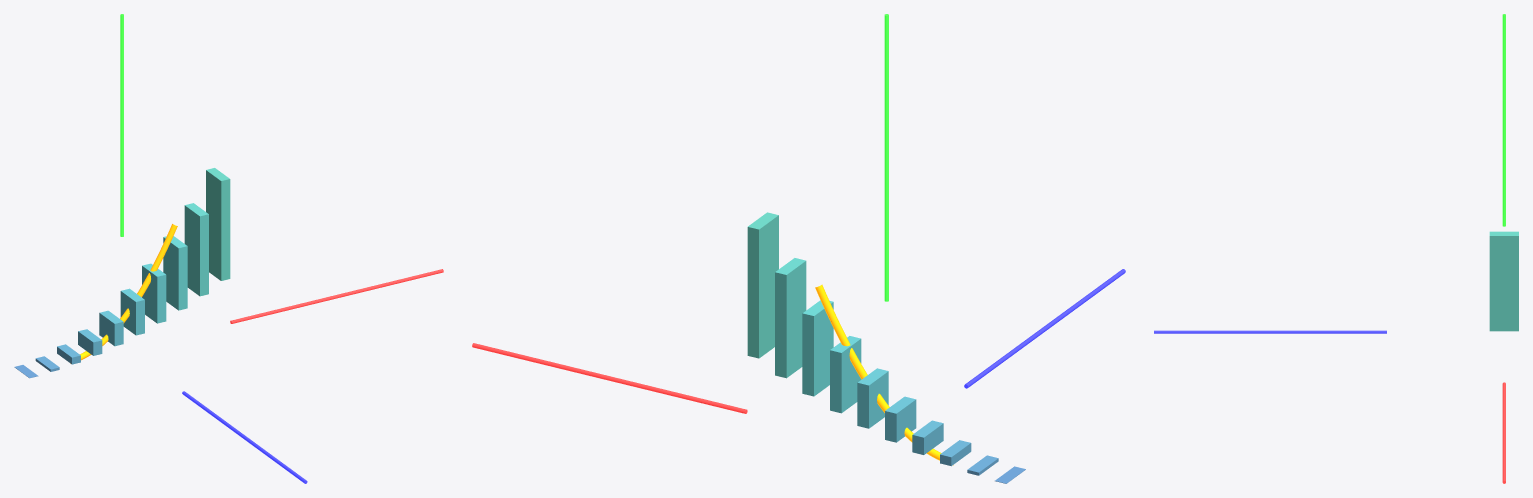
The model's file is area-under-curve-x2.glb.
The picture shows the model from 3 angles, left to right: view 1: azimuth 30°, elevation 25°; view 2: azimuth 150°, elevation 25°; view 3: azimuth 270°, elevation 25°; orthographic projection. The views are drawn at different scales.
Size of the model in its own units: 1.98 by 1.51 by 1.56.
